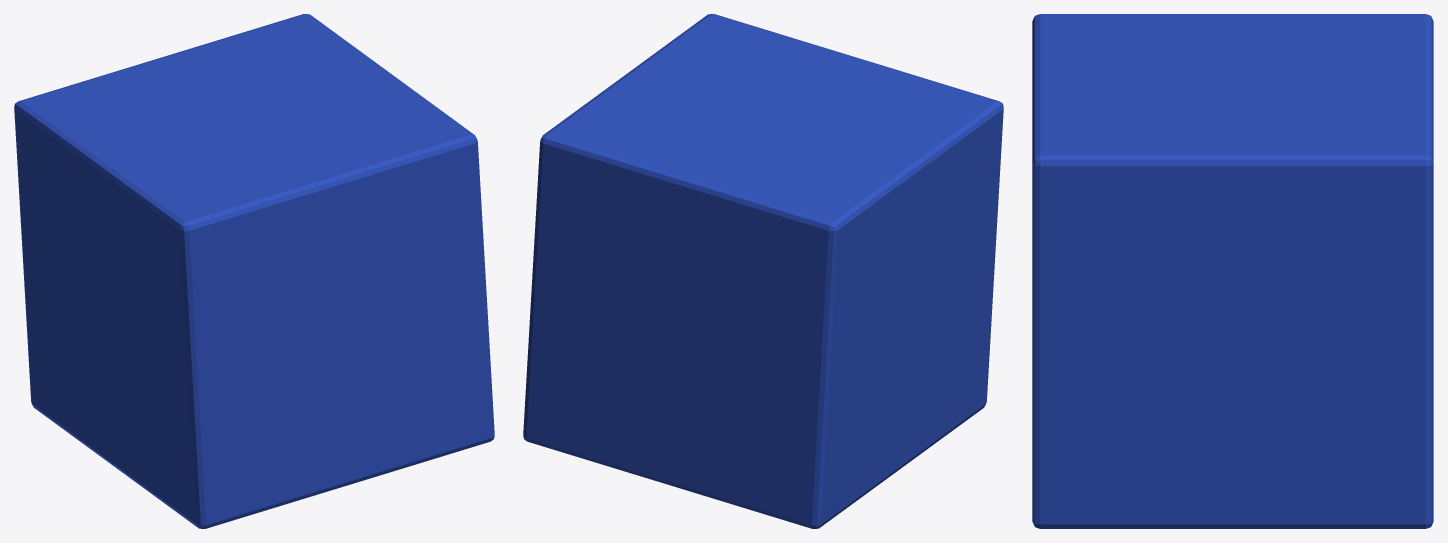
Rendered from cube_blue_glossy.glb.
3 renders of one model, left to right at view 1: azimuth 30°, elevation 25°; view 2: azimuth 150°, elevation 25°; view 3: azimuth 270°, elevation 25°, orthographic. The views are drawn at different scales.
Parts seen in each view (by area): view 1: cube_blue_glossy; view 2: cube_blue_glossy; view 3: cube_blue_glossy.
Part boxes in pixels (left/top/right/bottom): cube_blue_glossy: left=14, top=14, right=494, bottom=528; cube_blue_glossy: left=523, top=14, right=1003, bottom=528; cube_blue_glossy: left=1032, top=14, right=1433, bottom=528.
Bounding box in the file's own units: 0.4221 × 0.4221 × 0.4.
